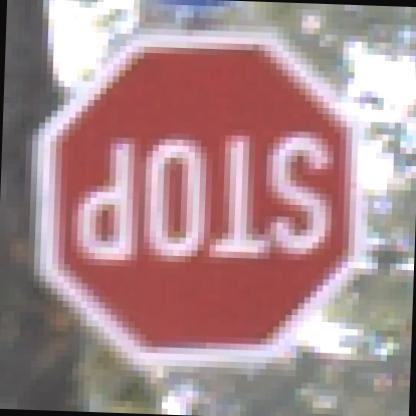stop: (12, 10, 374, 372)
